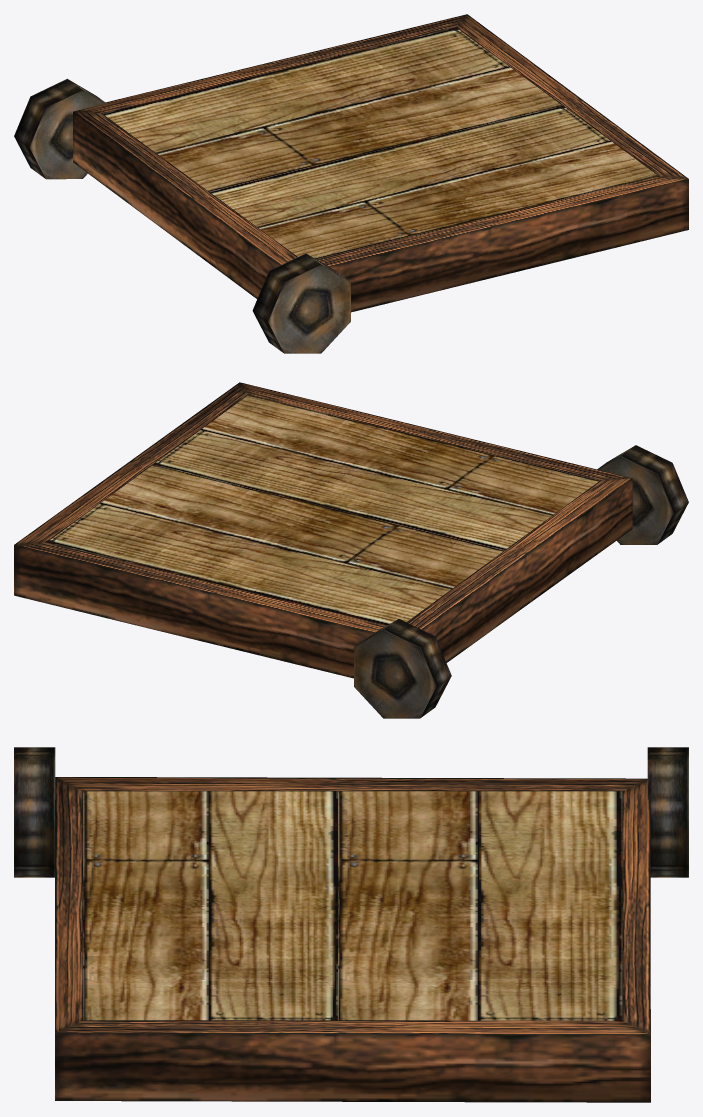
The model's file is INST_WH2_DROP_PLAT.fbx.
3 views of the same model, one above another, from view 1: azimuth 30°, elevation 25°; view 2: azimuth 150°, elevation 25°; view 3: azimuth 270°, elevation 25° (orthographic). The views are drawn at different scales.
Parts seen in each view (by area): view 1: INST_WH2_DROP_PLAT; view 2: INST_WH2_DROP_PLAT; view 3: INST_WH2_DROP_PLAT.
Boxes of the visible parts, x1=… form: INST_WH2_DROP_PLAT: x1=14, y1=14, x2=688, y2=353; INST_WH2_DROP_PLAT: x1=14, y1=382, x2=688, y2=718; INST_WH2_DROP_PLAT: x1=14, y1=747, x2=688, y2=1102.
Size of the model in its own units: 17642 by 3417 by 17680.
3 materials, 3 textured.
